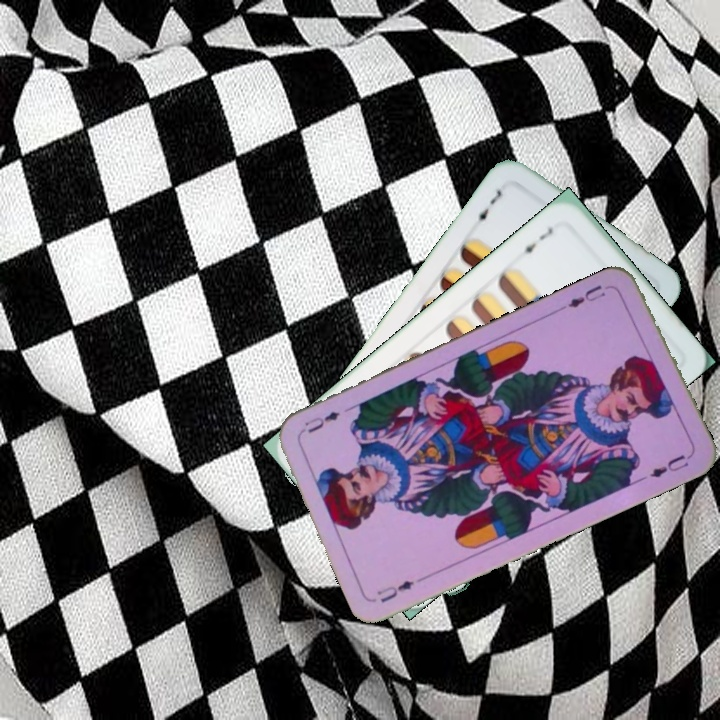E7: (469, 185, 505, 228), (515, 223, 557, 258)
EU: (559, 281, 615, 312), (372, 576, 417, 606)
